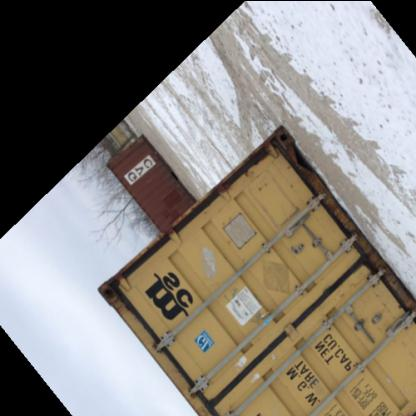Damage: (180, 167, 245, 227), (244, 122, 292, 166), (92, 265, 130, 317)
